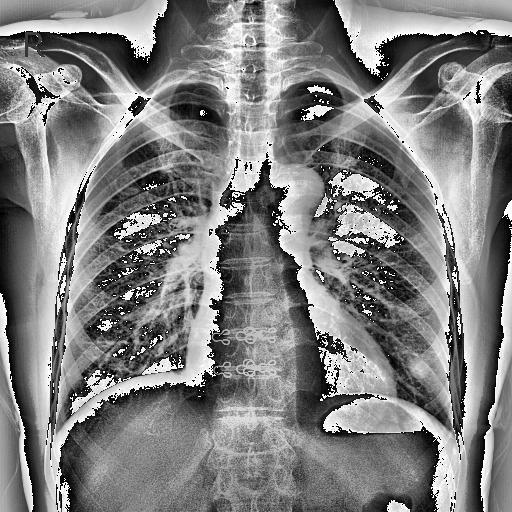0- Aortic enlargement: (204, 165, 324, 278), (264, 162, 324, 234), (254, 163, 327, 216)
8- Nodule-Mass: (402, 357, 430, 378), (410, 360, 428, 378)
